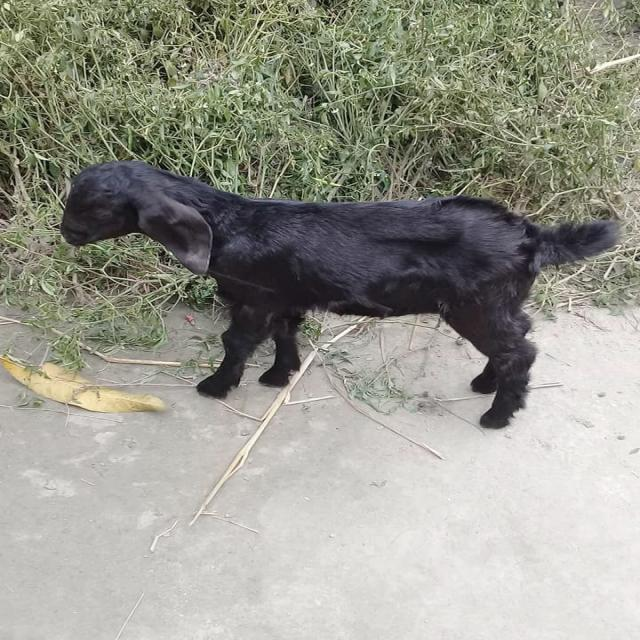Goat: (60, 159, 622, 429)
